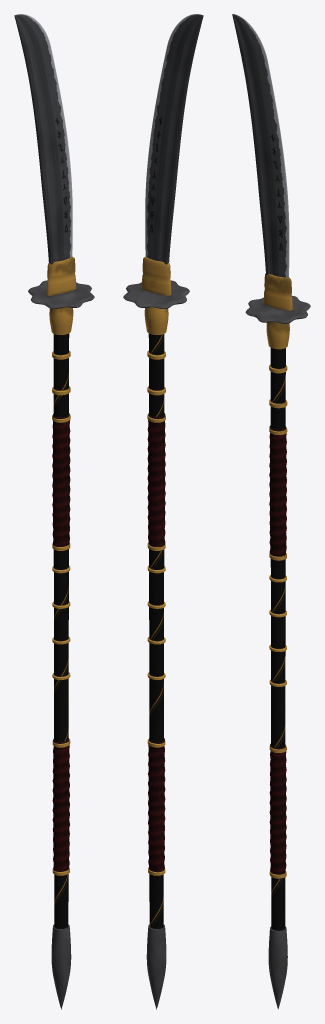
File: naginata_hd.glb
The picture shows the model from 3 angles, left to right: view 1: azimuth 30°, elevation 25°; view 2: azimuth 150°, elevation 25°; view 3: azimuth 330°, elevation 25°; orthographic projection. The views are drawn at different scales.
Visible parts, largest first — view 1: Weapon; view 2: Weapon; view 3: Weapon.
Part boxes in pixels (x1=…): Weapon: x1=14, y1=14, x2=94, y2=1009; Weapon: x1=123, y1=14, x2=203, y2=1009; Weapon: x1=232, y1=14, x2=310, y2=1009.
Size of the model in its own units: 0.1803 by 2.26 by 0.1396.
Materials: 1 (1 with a texture image).
